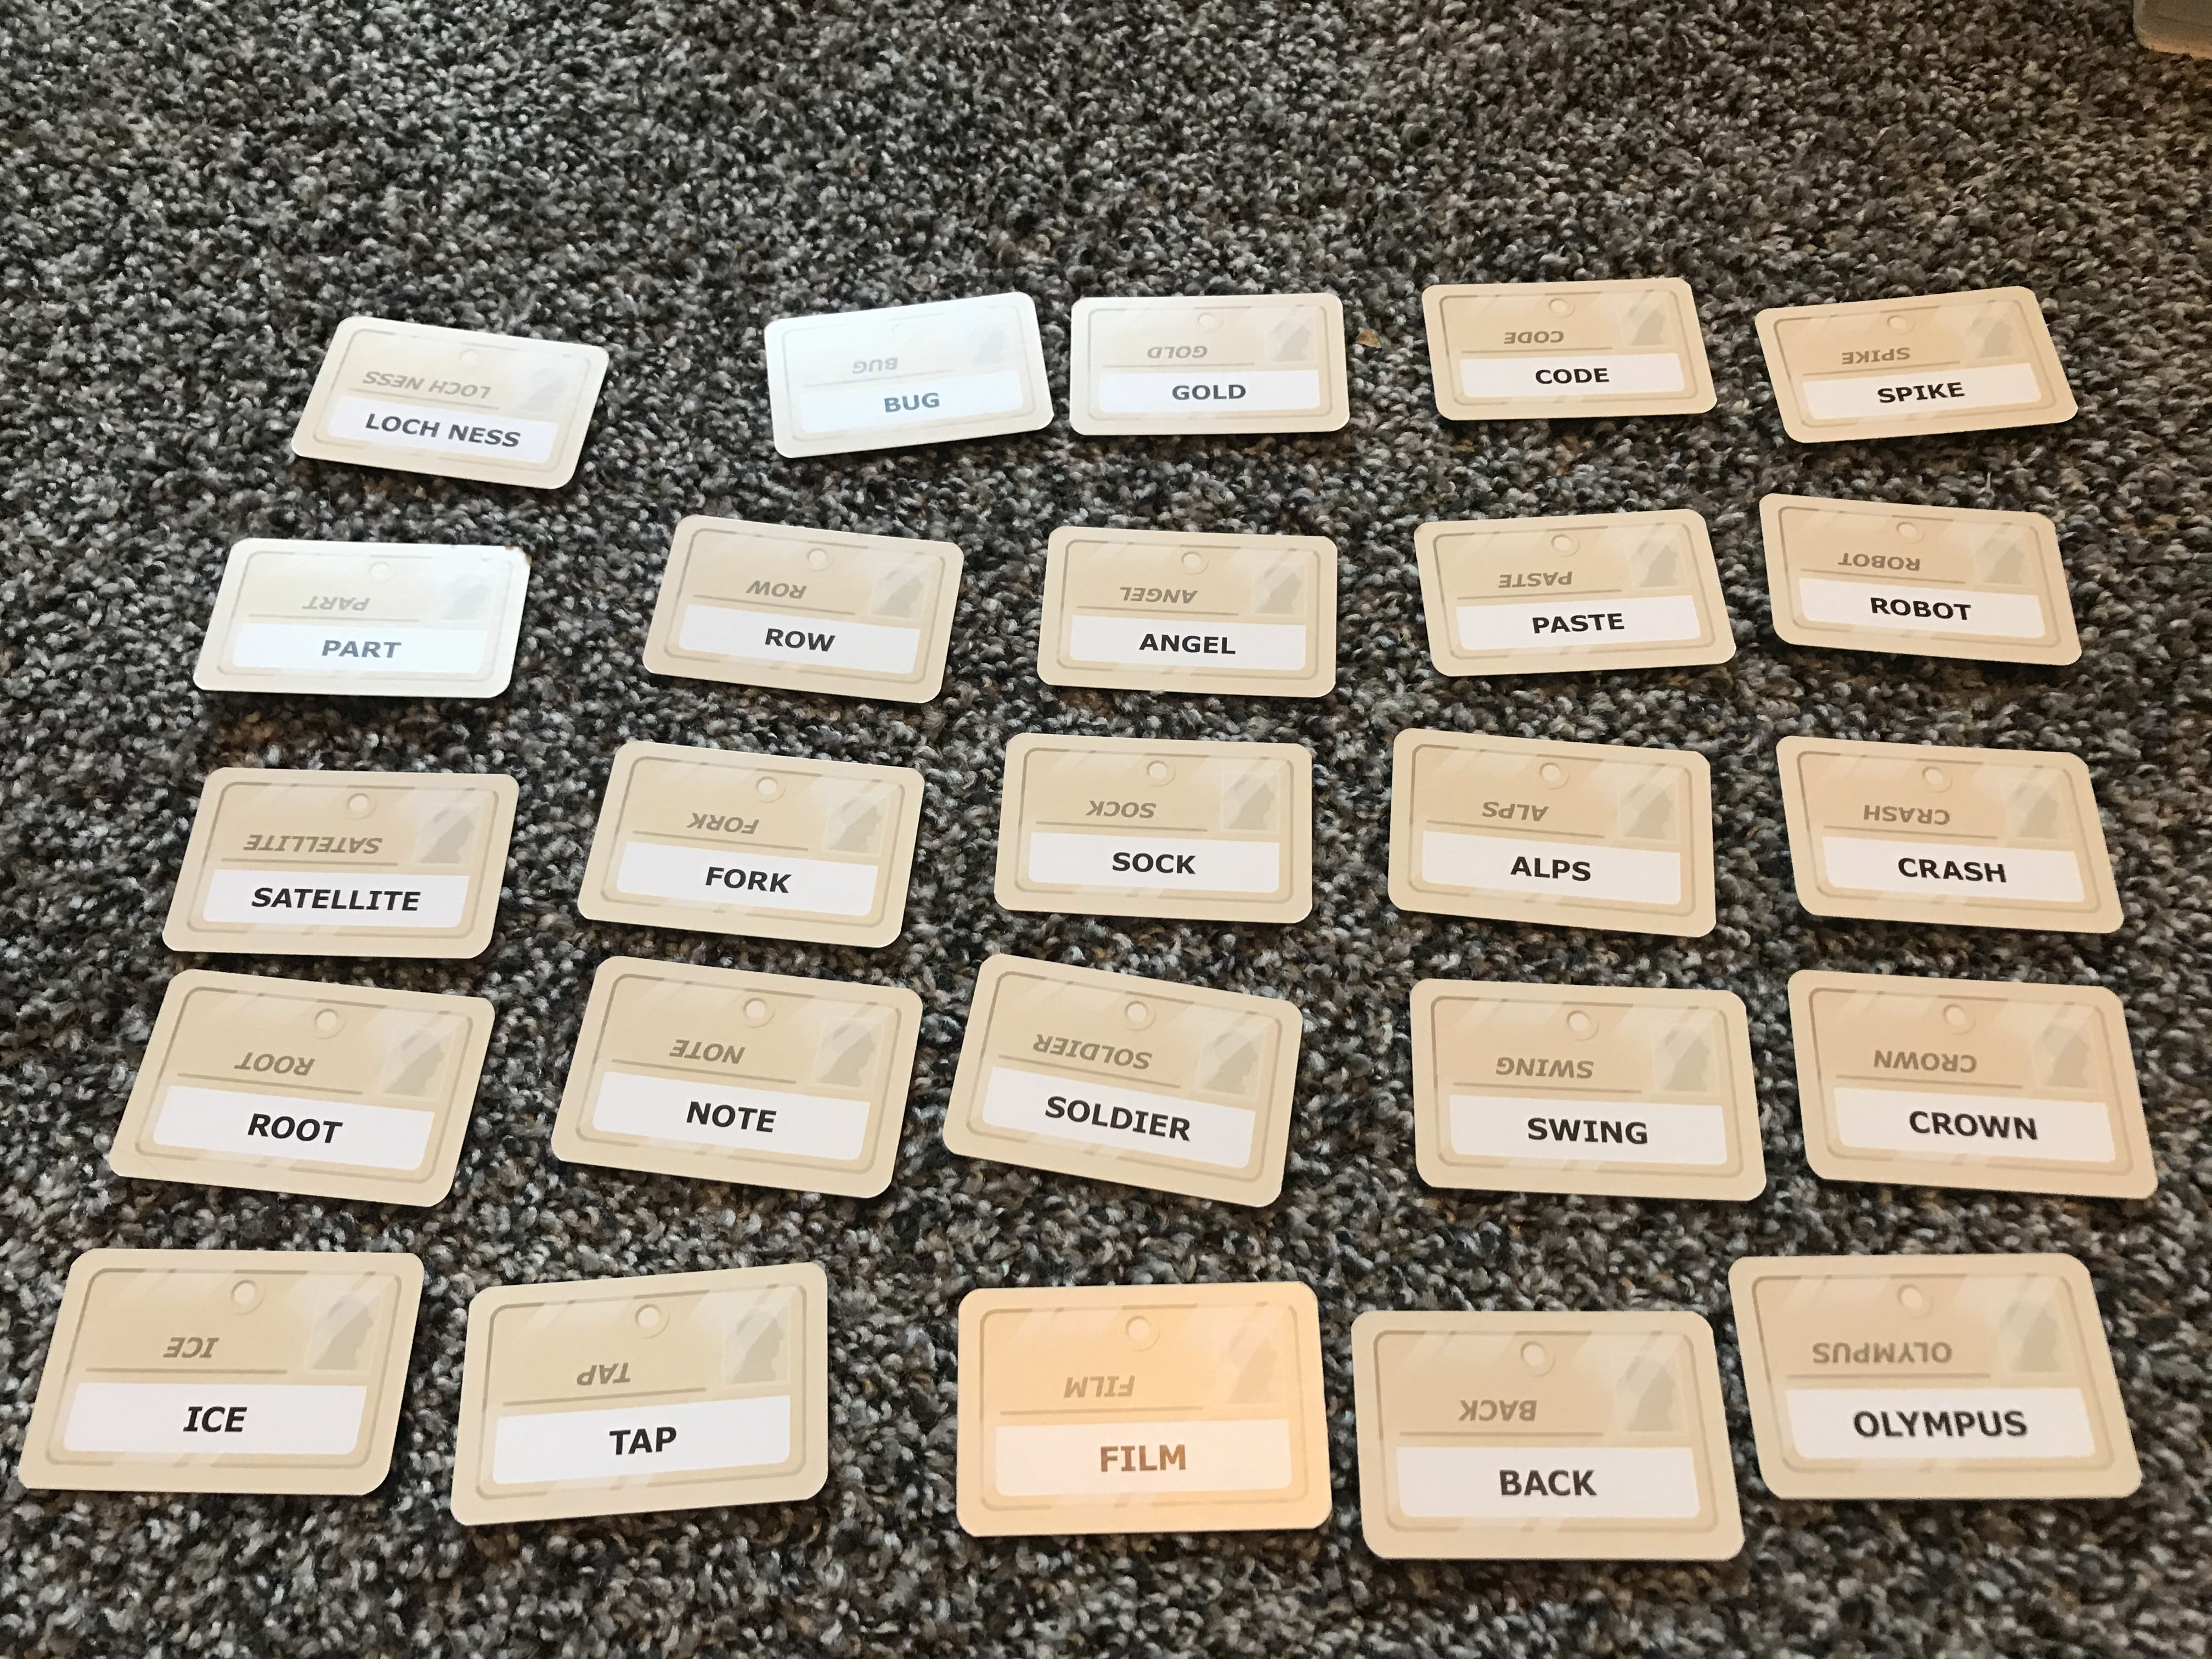A: (1519, 1464, 1548, 1506), (1939, 854, 1968, 894), (1505, 849, 1533, 890), (627, 1420, 651, 1459), (1548, 612, 1575, 647), (1136, 626, 1158, 660), (272, 882, 294, 917), (340, 633, 361, 669)
